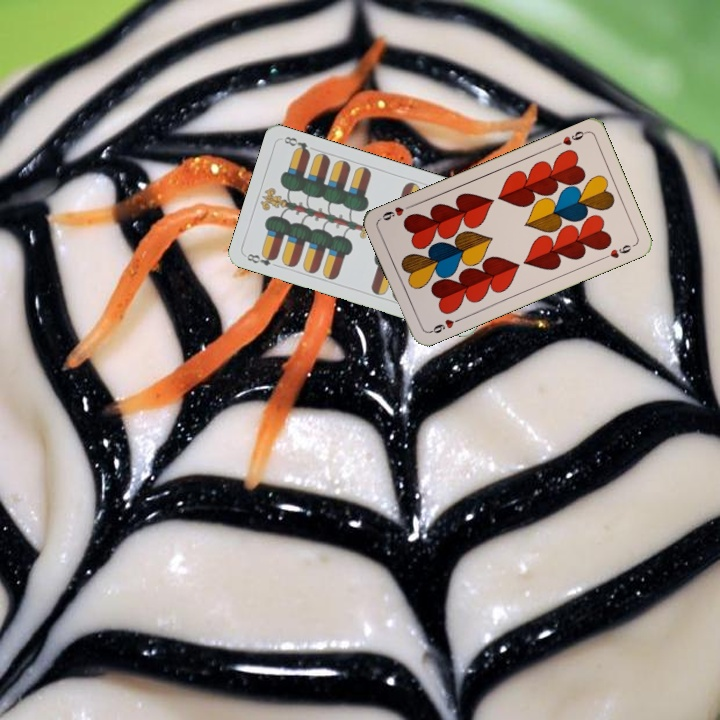E8: (243, 249, 279, 268)
H9: (550, 127, 589, 149), (424, 314, 463, 336)
